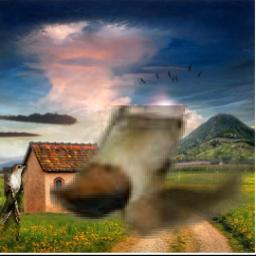Cuckoo: (0, 165, 26, 242)
Swallow: (50, 106, 251, 240)
